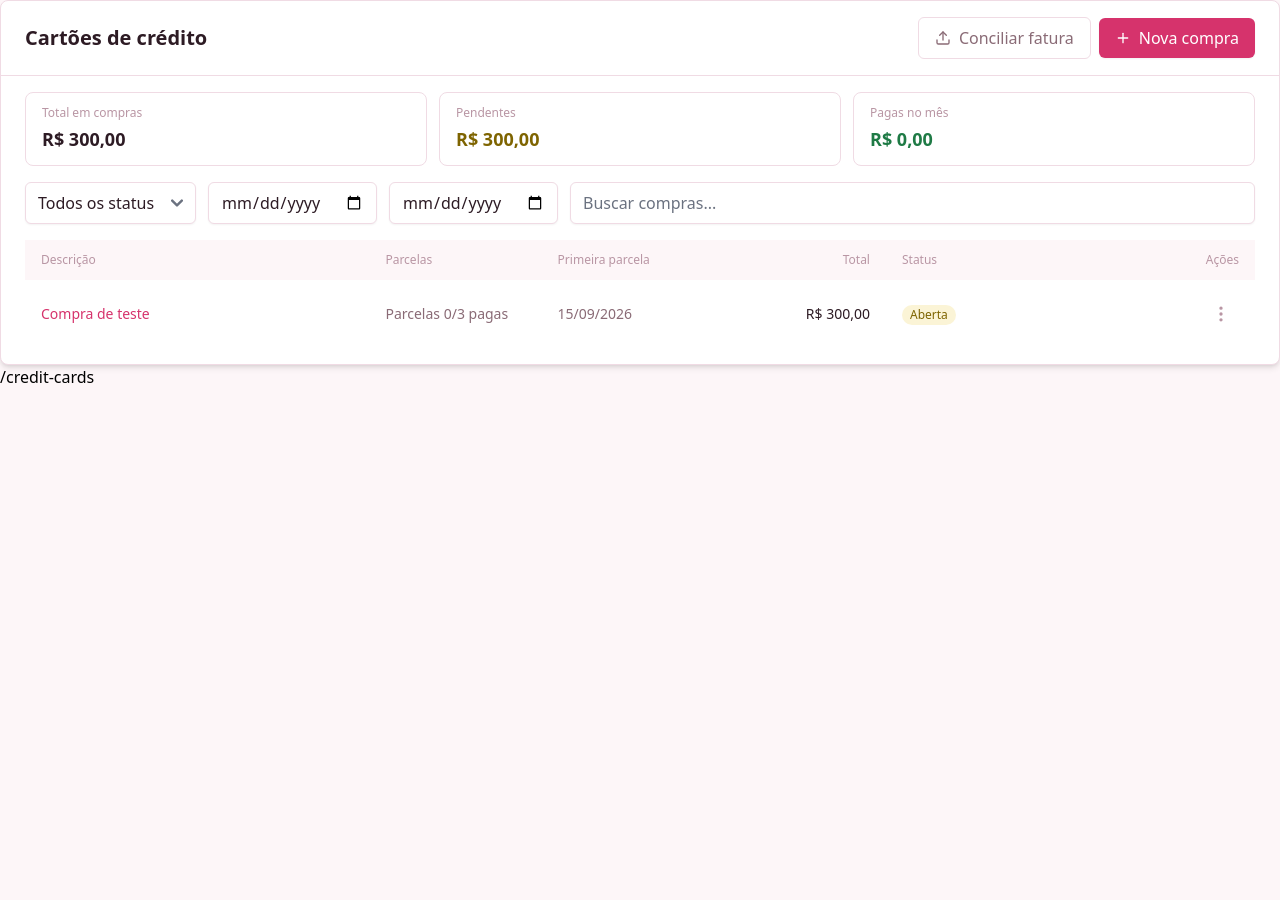
Test: CreditCardsPage › optimistically marks an installment as paid
The image size is (1280, 900).
Click the button "Compra de teste". click: (95, 314)
box: left=41, top=304, right=150, bottom=324
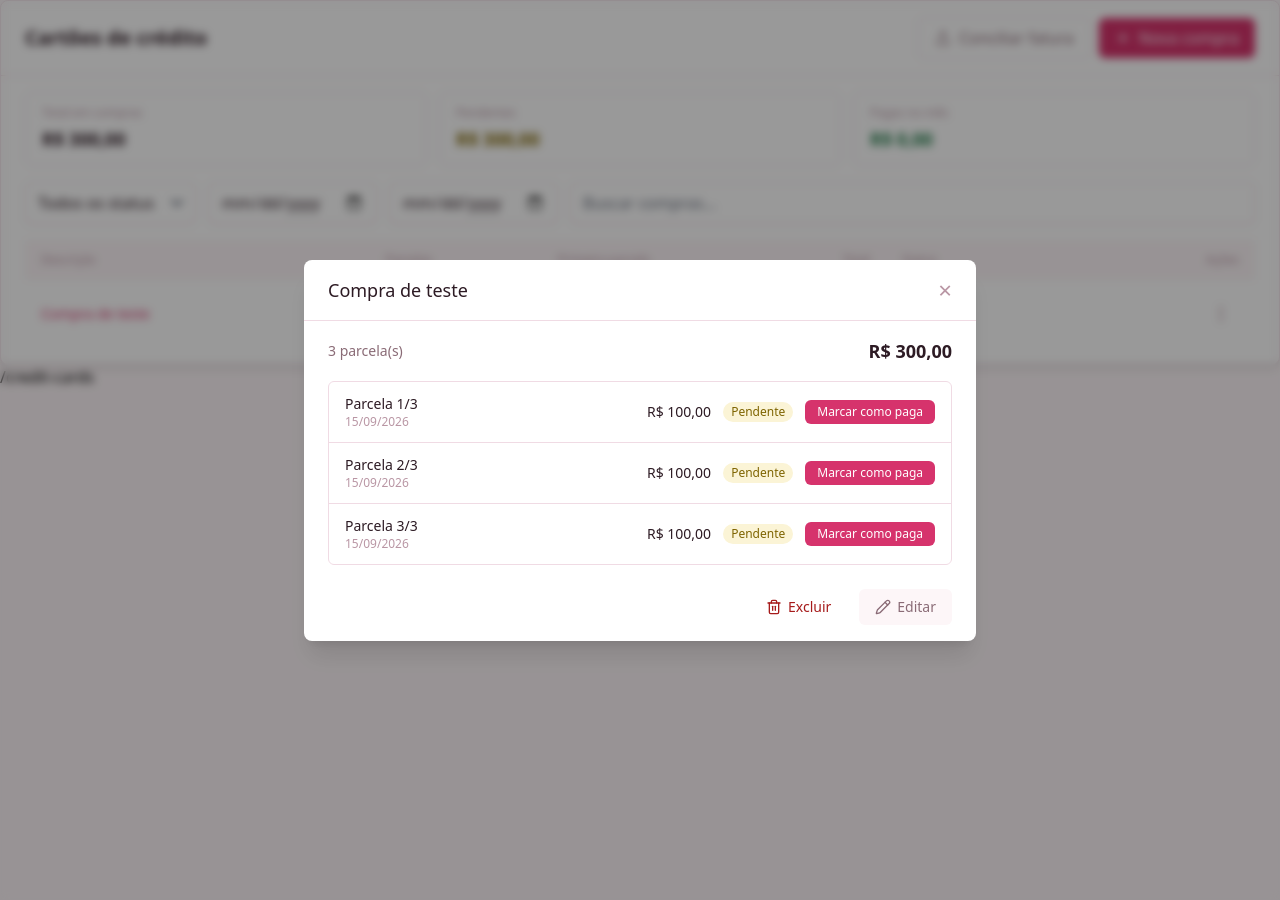
Click the button with test id "installment-pay-inst-1". click: (870, 412)
box: left=805, top=400, right=935, bottom=424
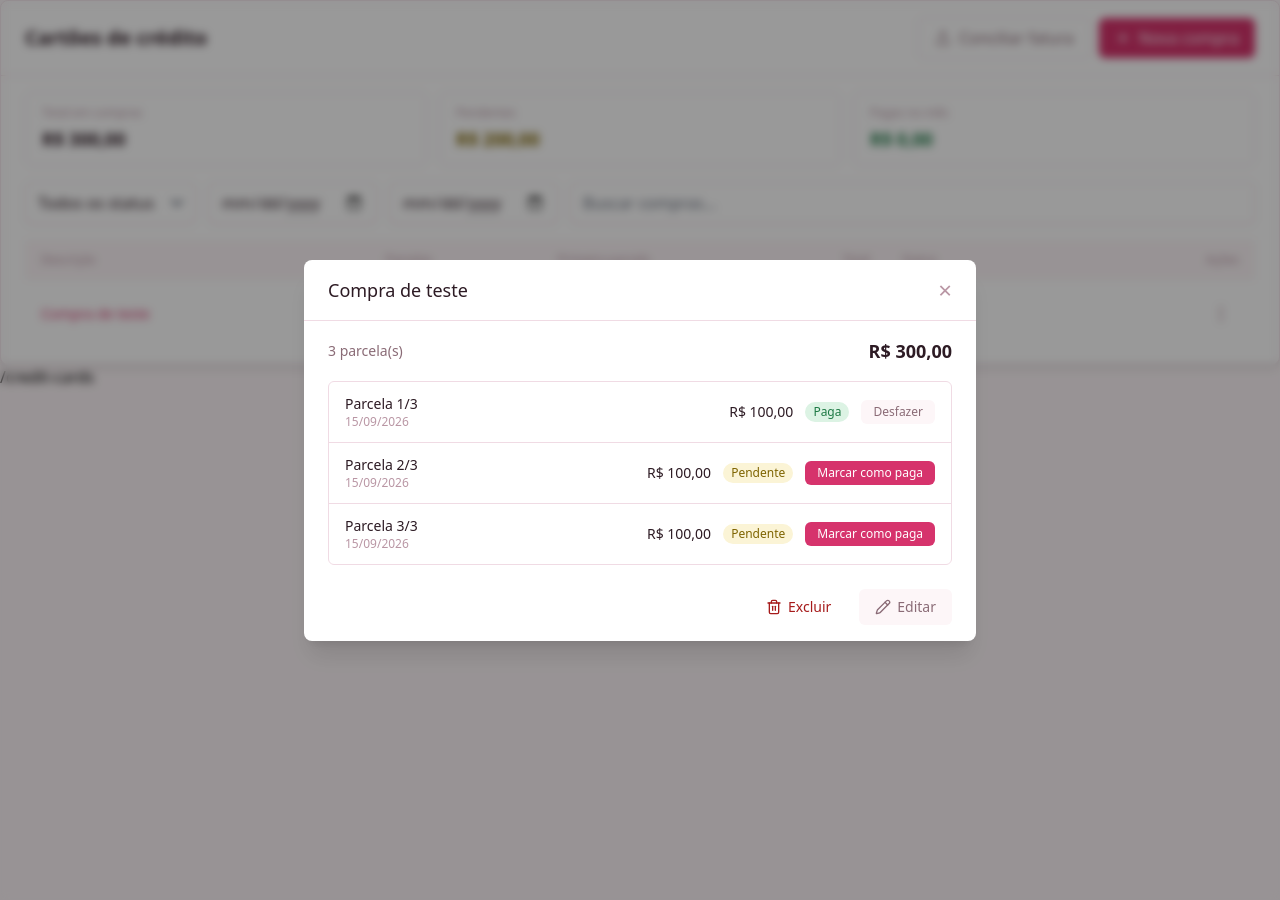
Expected: the button with test id "installment-unpay-inst-1" is shown, left=862, top=400, right=935, bottom=424
